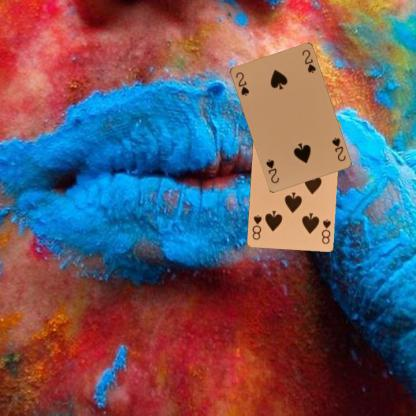2s: (328, 135, 346, 162), (233, 69, 250, 97)
8s: (319, 217, 332, 245)
